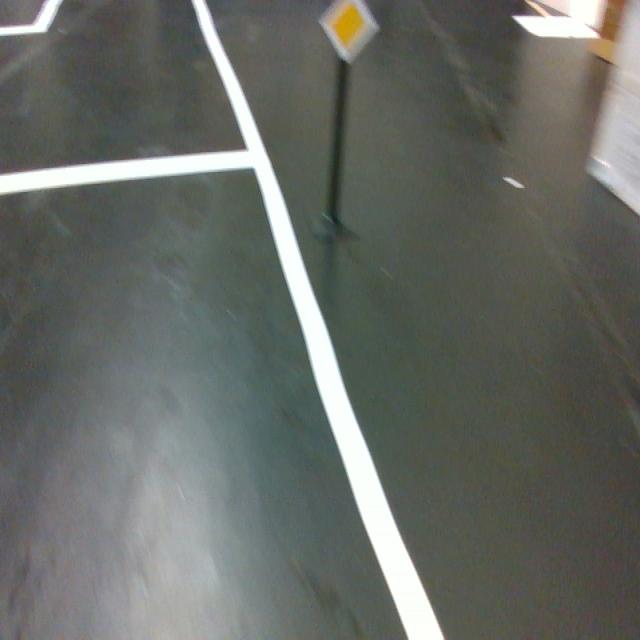priority-sign: (316, 0, 382, 67)
